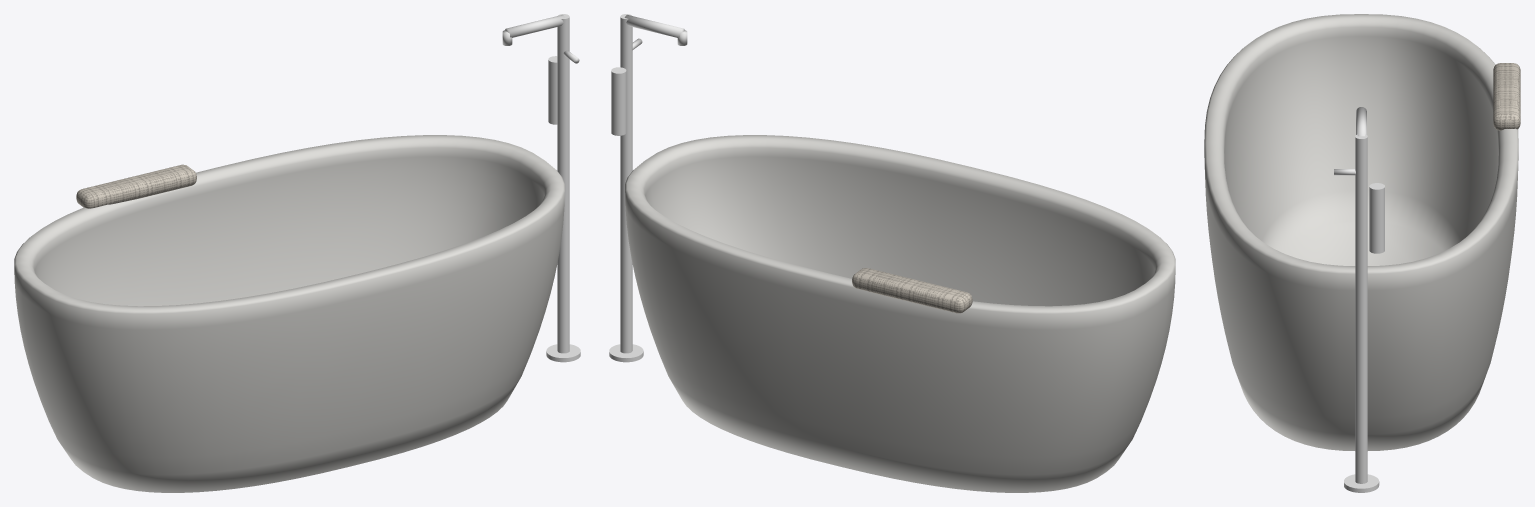
Rendered from bath-oval.glb.
3 renders of one model, left to right at view 1: azimuth 30°, elevation 25°; view 2: azimuth 150°, elevation 25°; view 3: azimuth 270°, elevation 25°, orthographic. The views are drawn at different scales.
Visible parts, largest first — view 1: bathtub, tap-pipe, towel, hand-shower, spout; view 2: bathtub, tap-pipe, towel, hand-shower, spout; view 3: bathtub, tap-pipe, towel, hand-shower, tap-base.
Part boxes in pixels (bbox=[...]): bathtub: bbox=[14, 135, 564, 492]; tap-pipe: bbox=[557, 14, 569, 353]; towel: bbox=[76, 164, 196, 208]; hand-shower: bbox=[548, 56, 557, 124]; spout: bbox=[505, 15, 565, 37]; bathtub: bbox=[625, 135, 1175, 492]; tap-pipe: bbox=[620, 14, 632, 353]; towel: bbox=[852, 268, 972, 313]; hand-shower: bbox=[611, 67, 626, 135]; spout: bbox=[624, 15, 684, 37]; bathtub: bbox=[1204, 14, 1518, 450]; tap-pipe: bbox=[1355, 134, 1367, 483]; towel: bbox=[1493, 63, 1520, 130]; hand-shower: bbox=[1369, 183, 1384, 253]; tap-base: bbox=[1344, 474, 1379, 492].
Bounding box in the file's own units: 1.65 × 0.984 × 0.805.
Materials: 3 (1 with a texture image).
